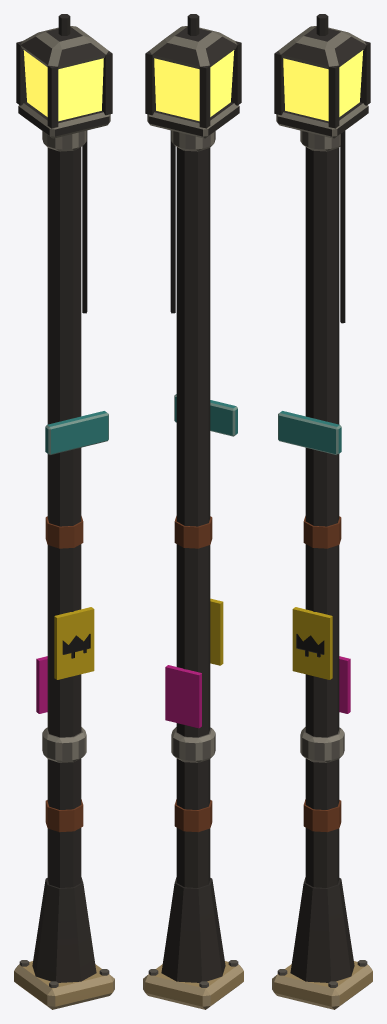
The model's file is c_lamp.glb.
3 views of the same model, side by side, from view 1: azimuth 30°, elevation 25°; view 2: azimuth 150°, elevation 25°; view 3: azimuth 330°, elevation 25° (orthographic).
Visible parts, largest first — view 1: c_lamp; view 2: c_lamp; view 3: c_lamp.
Boxes of the visible parts, x1,y1,x2,y2 form: c_lamp: (14,14,114,1009); c_lamp: (143,14,243,1009); c_lamp: (272,14,372,1009).
Bounding box in the file's own units: 0.4 × 5.5 × 0.4.
